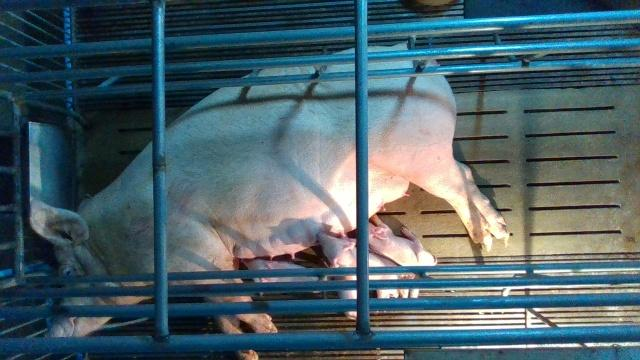piglet: (368, 214, 438, 277), (316, 232, 404, 281), (242, 258, 332, 296)
sow-sleep-lactate: (30, 44, 508, 360)
